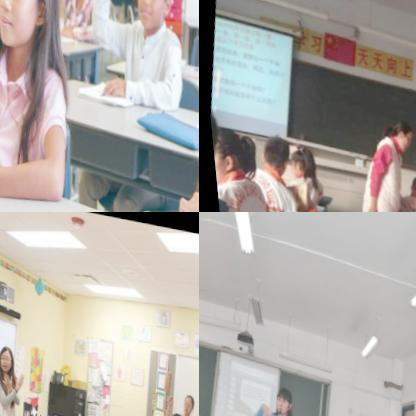head: (0, 0, 66, 63), (207, 124, 254, 193), (253, 130, 290, 175), (279, 140, 314, 183), (123, 0, 171, 31), (380, 114, 412, 150), (267, 384, 287, 415), (400, 169, 416, 200), (0, 341, 14, 376), (175, 388, 191, 412), (192, 381, 199, 409)
